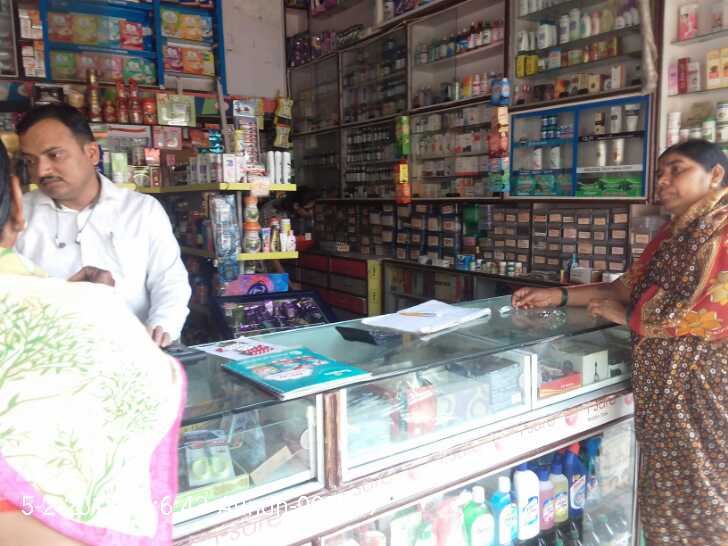vicks: (536, 115, 575, 139)
